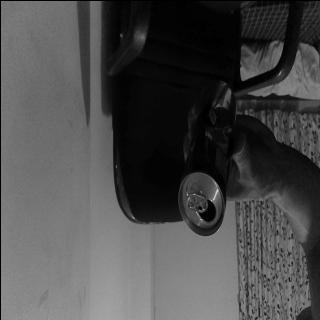alumunium_can: (174, 79, 237, 234)
